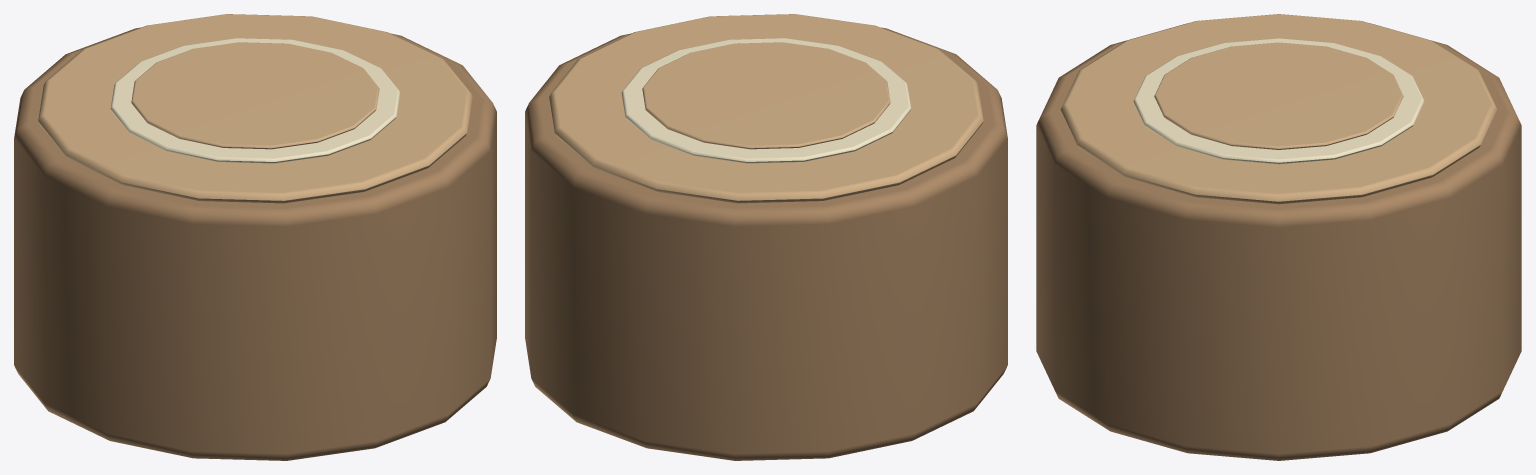
File: stump.glb
3 views of the same model, side by side, from view 1: azimuth 30°, elevation 25°; view 2: azimuth 150°, elevation 25°; view 3: azimuth 270°, elevation 25° (orthographic).
Parts seen in each view (by area): view 1: Bark, Cut, Core, Ring; view 2: Bark, Cut, Core, Ring; view 3: Bark, Cut, Core, Ring.
Part boxes in pixels (x1,y1,x2,y2): Bark: [14, 27, 496, 460]; Cut: [38, 14, 472, 203]; Core: [131, 42, 379, 149]; Ring: [110, 38, 400, 163]; Bark: [525, 27, 1007, 460]; Cut: [549, 14, 983, 203]; Core: [642, 42, 890, 149]; Ring: [621, 38, 911, 163]; Bark: [1036, 24, 1521, 460]; Cut: [1060, 14, 1497, 204]; Core: [1154, 42, 1403, 149]; Ring: [1133, 38, 1424, 164].
Bounding box in the file's own units: 0.7 × 0.429 × 0.7.
